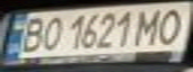1: (112, 7, 139, 47), (63, 11, 84, 51)
2: (96, 9, 121, 50)
6: (81, 10, 103, 51)
B: (15, 15, 48, 53)
M: (130, 6, 169, 46)
O: (151, 4, 190, 45), (36, 14, 66, 52)
